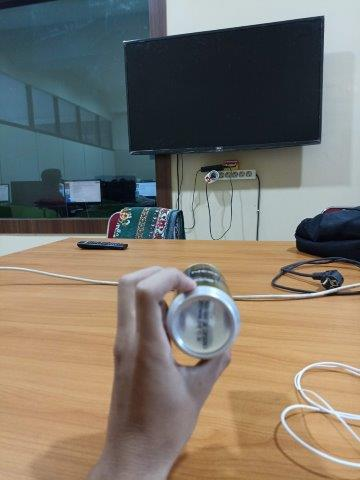kaleng: (165, 262, 238, 359)
